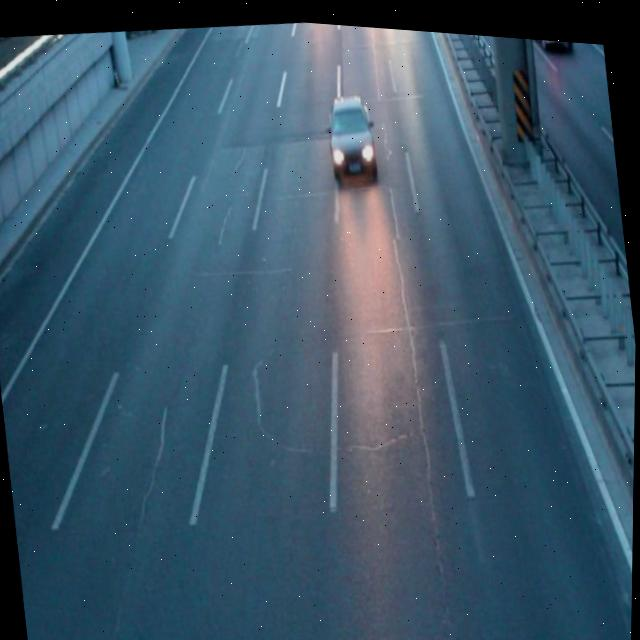car: (321, 86, 378, 176)
